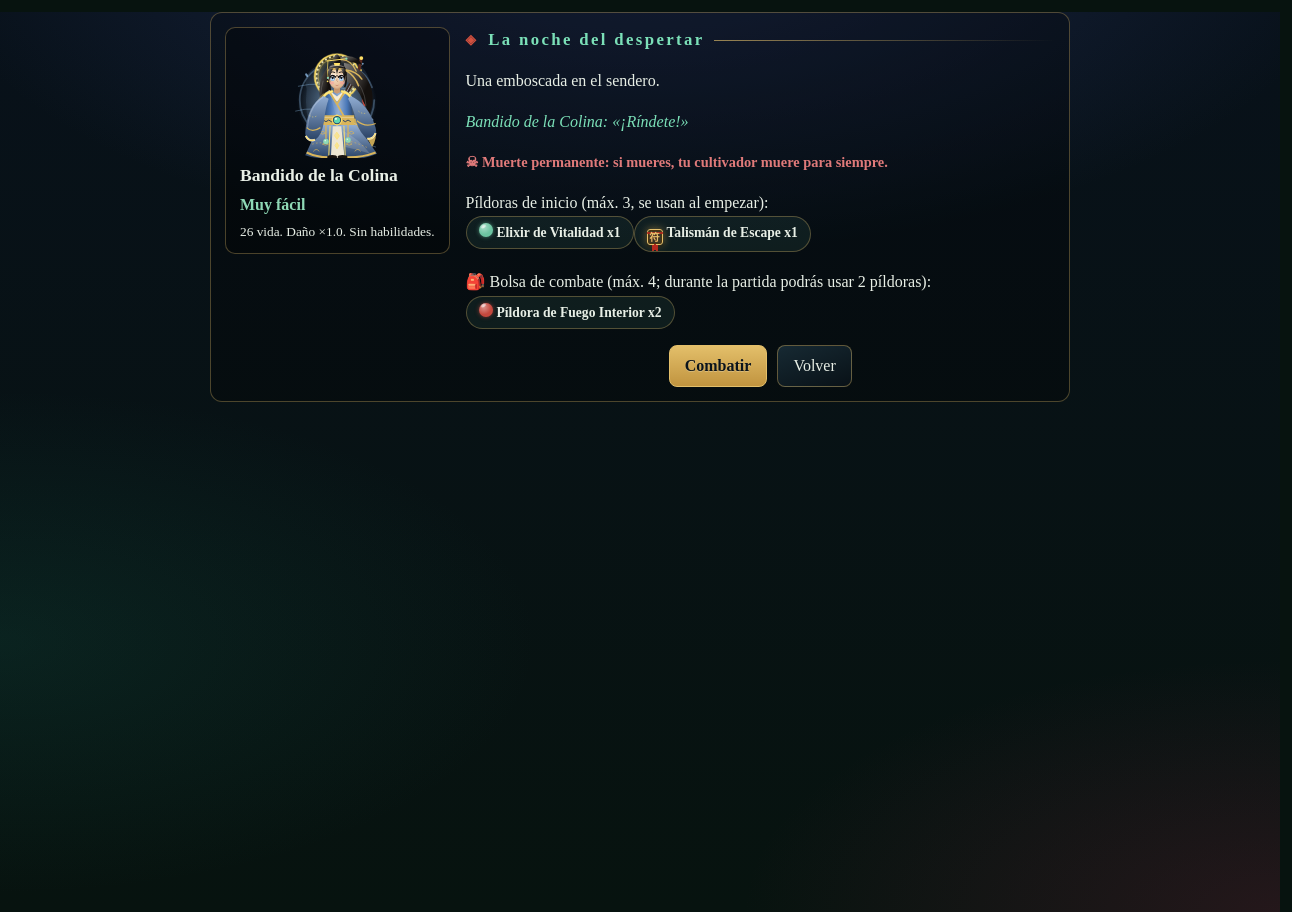
Test: Combate › inicia el combate y pinta barras, mano, slots y log
Click the button "Combatir" at (718, 366), box [669,345,767,387]
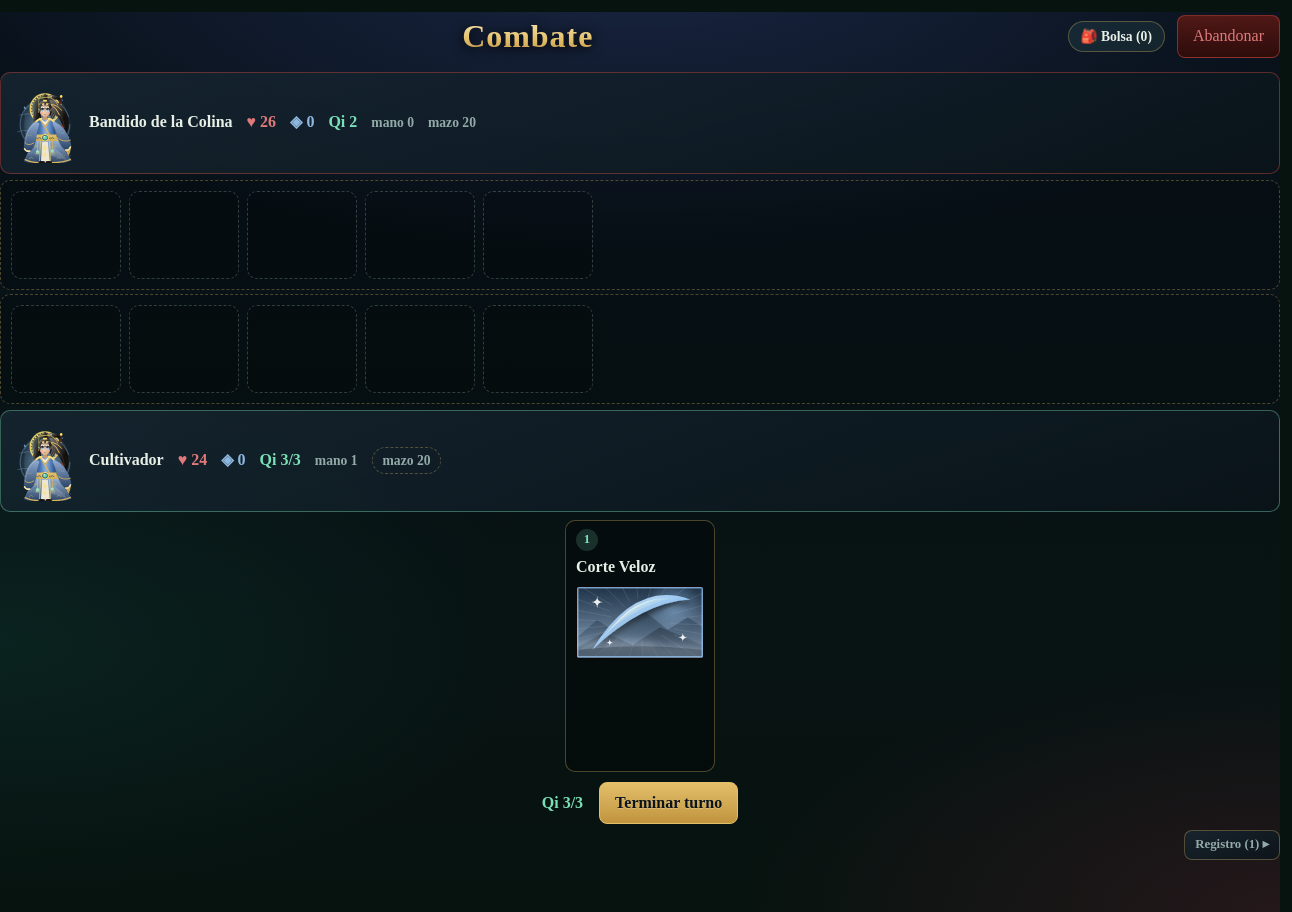
Expected: the text "Cultivador" is shown, [89,448,164,473]
Expected: the button "1 Corte Veloz" is shown, [565,520,715,772]
Expected: the button "Registro (1) ▸" is shown
Click the button "Registro (1) ▸" at (1232, 845), box [1184,830,1280,860]
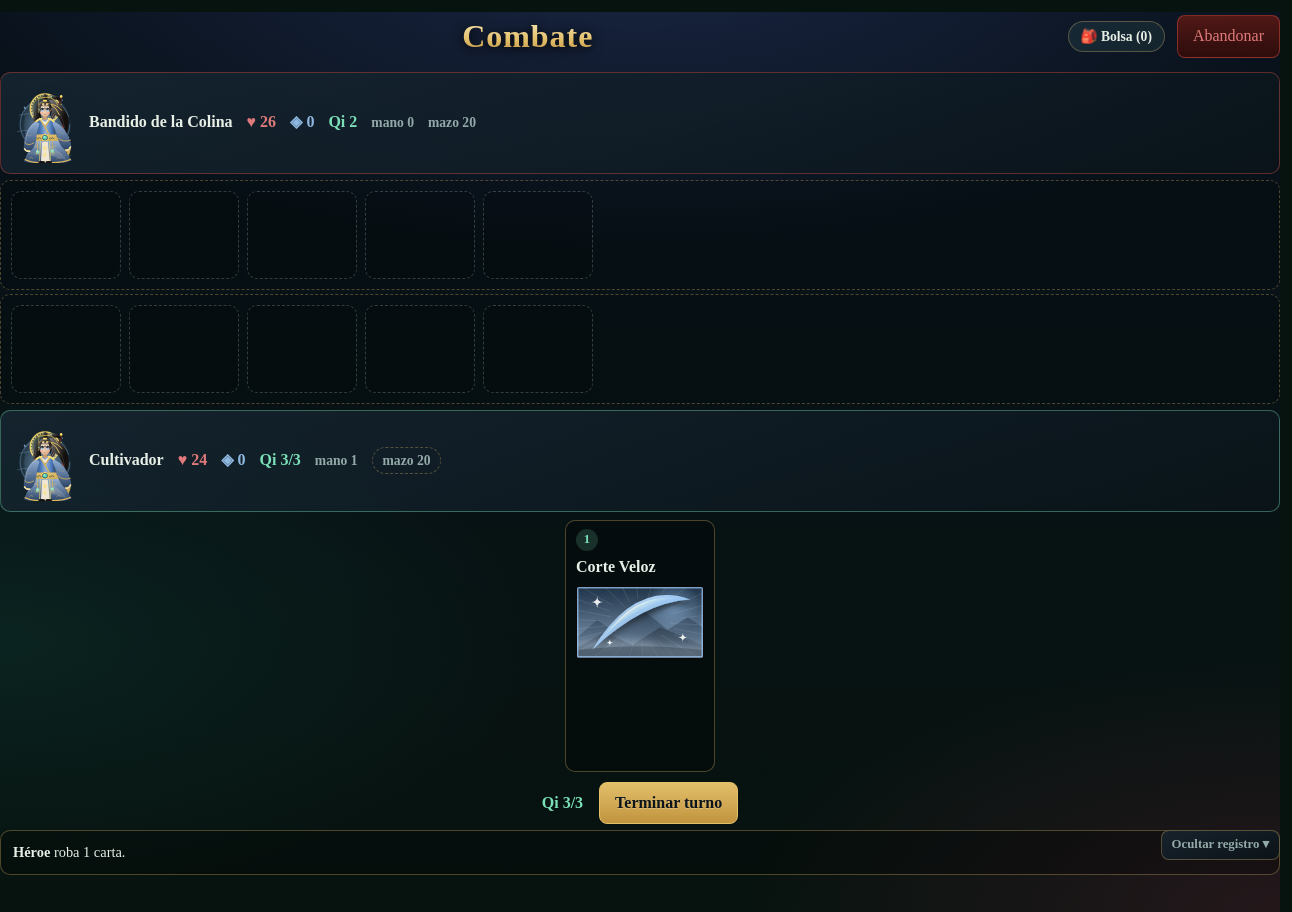
Expected: the number of icons with class "slot-celda" is 10
Expected: the text "Héroe roba 1 carta." is shown, [13,844,125,860]
